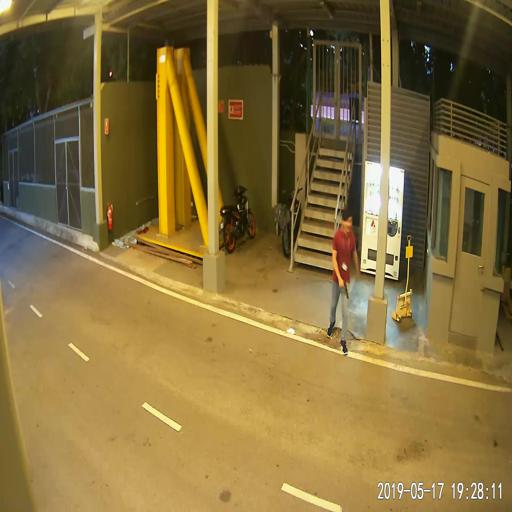pistol: (339, 278, 348, 300)
